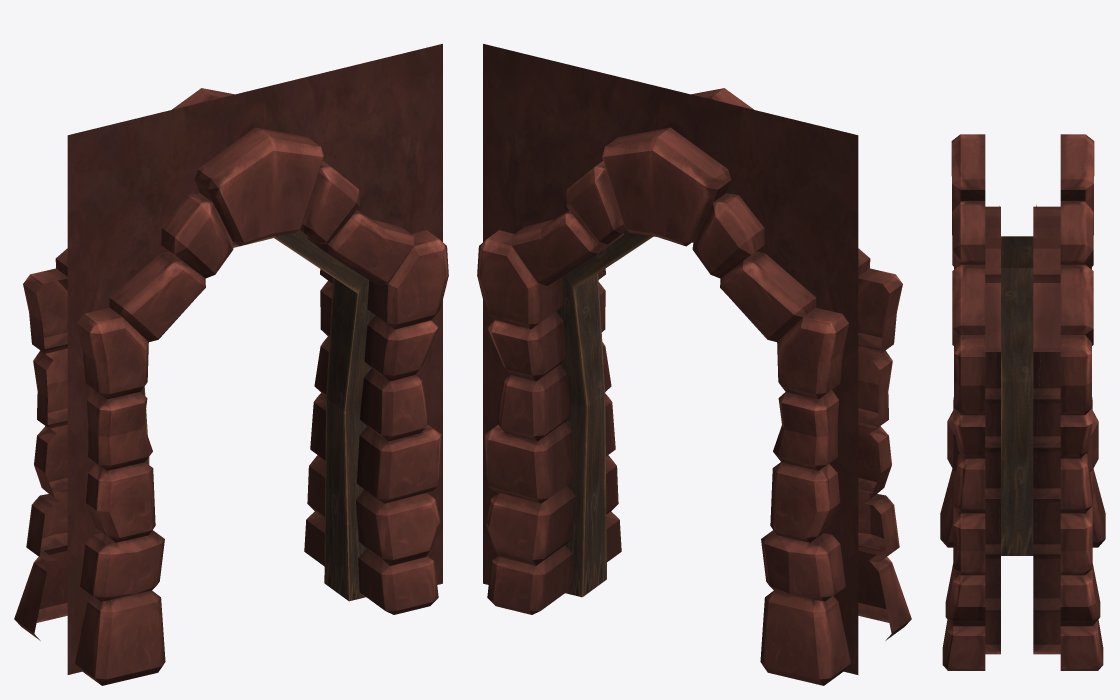
File: lava_wall_door_01.fbx
3 renders of one model, left to right at view 1: azimuth 30°, elevation 25°; view 2: azimuth 150°, elevation 25°; view 3: azimuth 270°, elevation 25°, orthographic. The views are drawn at different scales.
Visible parts, largest first — view 1: obj1.032; view 2: obj1.032; view 3: obj1.032.
Part boxes in pixels (x1=…): obj1.032: x1=14, y1=44, x2=448, y2=685; obj1.032: x1=477, y1=44, x2=911, y2=685; obj1.032: x1=940, y1=134, x2=1105, y2=670.
Size of the model in its own units: 4 by 5.5 by 1.64.
